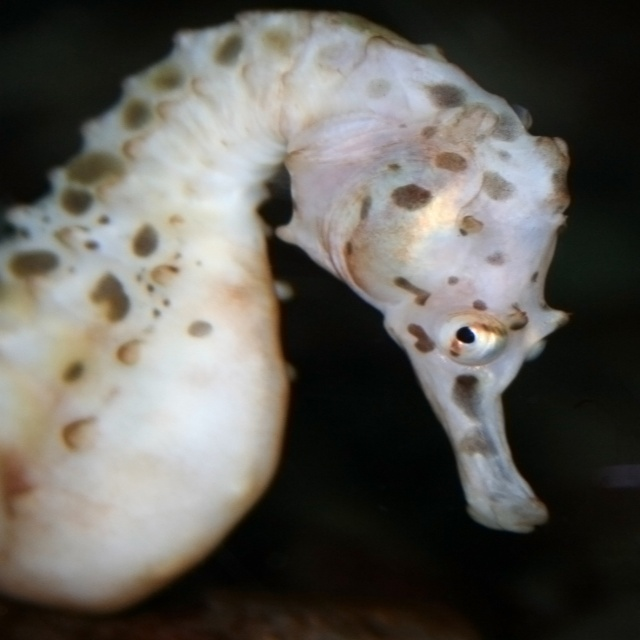Seahorse: (0, 8, 574, 620)
